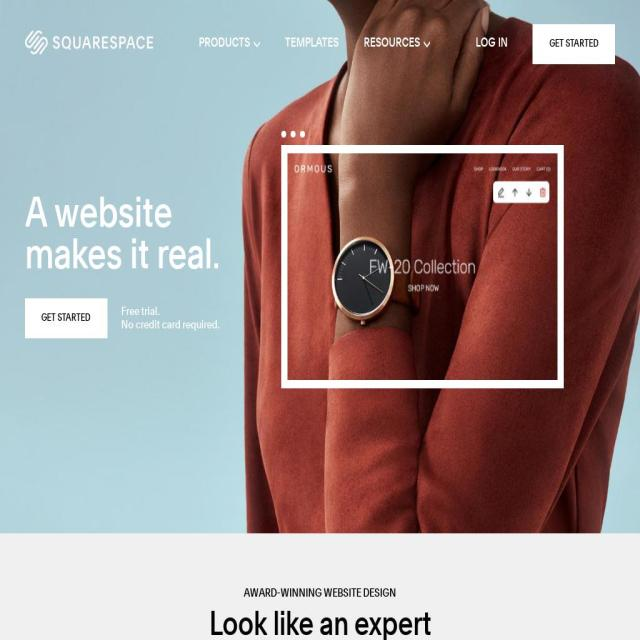button: (364, 0, 431, 88), (198, 0, 260, 88), (533, 24, 615, 64), (25, 298, 107, 338)
heading: (25, 237, 220, 278), (195, 610, 445, 640), (25, 195, 173, 237), (120, 318, 220, 332), (121, 305, 217, 318)
image: (25, 29, 153, 55), (253, 40, 260, 48), (424, 40, 431, 48)
link: (285, 0, 339, 88), (476, 38, 508, 50)
text: (0, 0, 640, 533), (353, 247, 492, 286), (281, 163, 564, 175), (195, 587, 445, 600), (493, 181, 550, 203), (386, 282, 460, 294), (364, 38, 421, 50), (198, 38, 250, 50)
